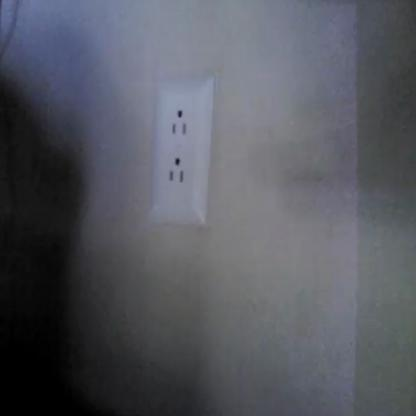OUTLET: (148, 72, 214, 224)
